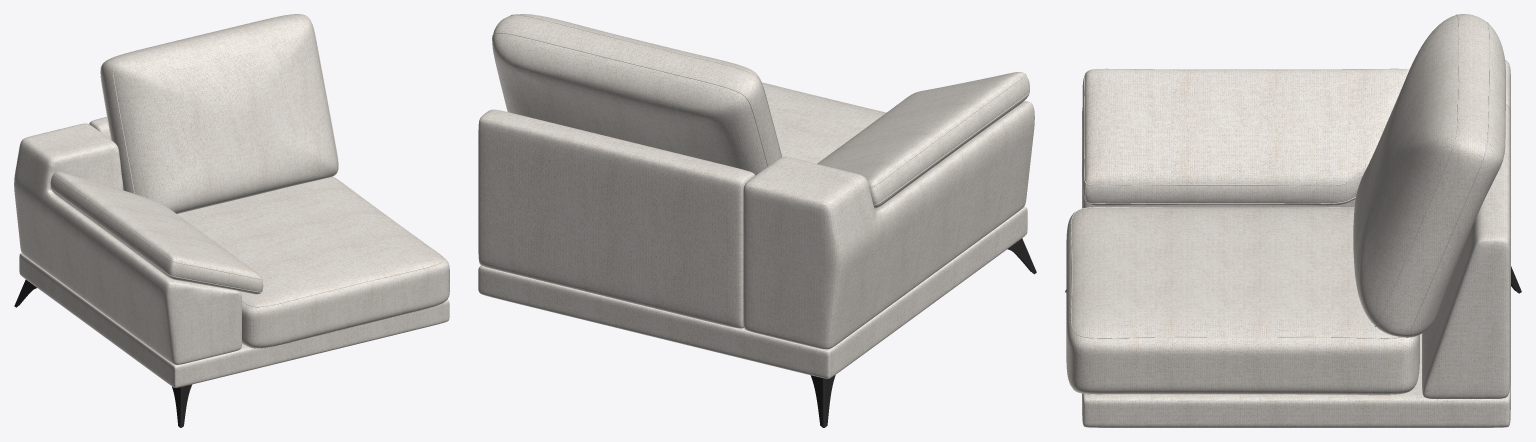
Rendered from arm.glb.
3 views of the same model, side by side, from view 1: azimuth 30°, elevation 25°; view 2: azimuth 150°, elevation 25°; view 3: azimuth 270°, elevation 25° (orthographic). The views are drawn at different scales.
Visible parts, largest first — view 1: object 12, object 6, object 2, object 5, estrutura#3, D=~ 0,00 m, pe; view 2: costa estrutura#3, object 2, object 12, estrutura#3, object 5, object 6, pe; view 3: object 6, object 5, object 12, estrutura#3, costa estrutura#3, D=~ 0,00 m (×5), object 2.
Part boxes in pixels (left/top/right/bottom): object 12: left=101, top=14, right=338, bottom=213; object 6: left=177, top=177, right=449, bottom=348; object 2: left=14, top=123, right=241, bottom=364; object 5: left=50, top=172, right=262, bottom=294; estrutura#3: left=19, top=253, right=449, bottom=387; D=~ 0,00 m: left=113, top=17, right=338, bottom=193; pe: left=172, top=384, right=192, bottom=427; costa estrutura#3: left=478, top=109, right=755, bottom=328; object 2: left=743, top=101, right=1034, bottom=349; object 12: left=492, top=14, right=781, bottom=175; estrutura#3: left=478, top=206, right=1027, bottom=378; object 5: left=817, top=72, right=1029, bottom=208; object 6: left=762, top=82, right=885, bottom=163; pe: left=810, top=375, right=835, bottom=427; object 6: left=1066, top=207, right=1419, bottom=394; object 5: left=1082, top=68, right=1409, bottom=205; object 12: left=1353, top=14, right=1505, bottom=337; estrutura#3: left=1082, top=334, right=1510, bottom=427; costa estrutura#3: left=1422, top=104, right=1510, bottom=398; D=~ 0,00 m (×5): left=1070, top=14, right=1489, bottom=338; object 2: left=1082, top=60, right=1510, bottom=208.
Bounding box in the file's own units: 1.02 × 0.8329 × 1.03.
2 materials, 1 textured.
